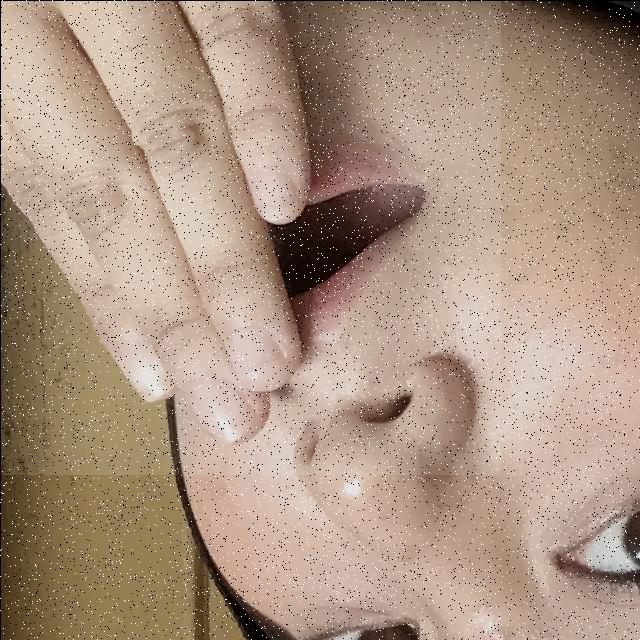ngantuk: (0, 0, 500, 474)
